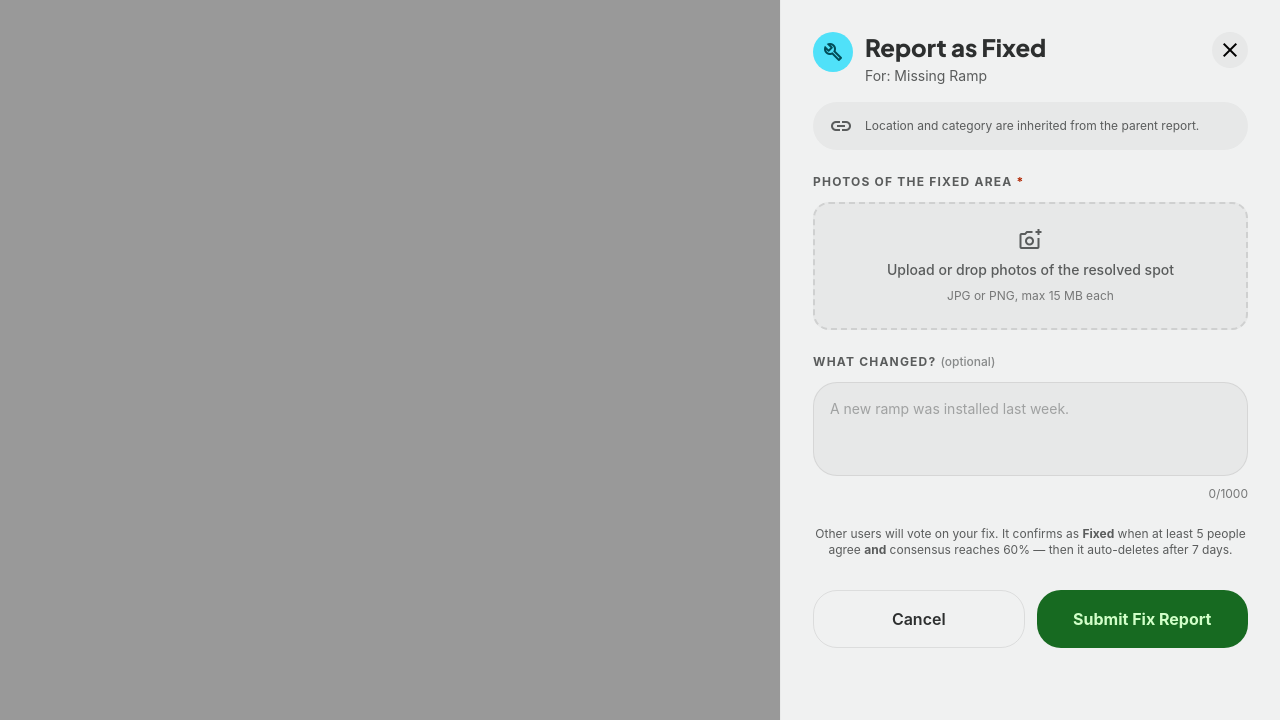
Test: CreateFixRequestPanel › rejects submit when no photo is attached
What coordinates should you click on to do the following:
click the button "Submit Fix Report"
I would click on:
 (1142, 619)
Its box is top-left (1036, 590), bottom-right (1248, 648).
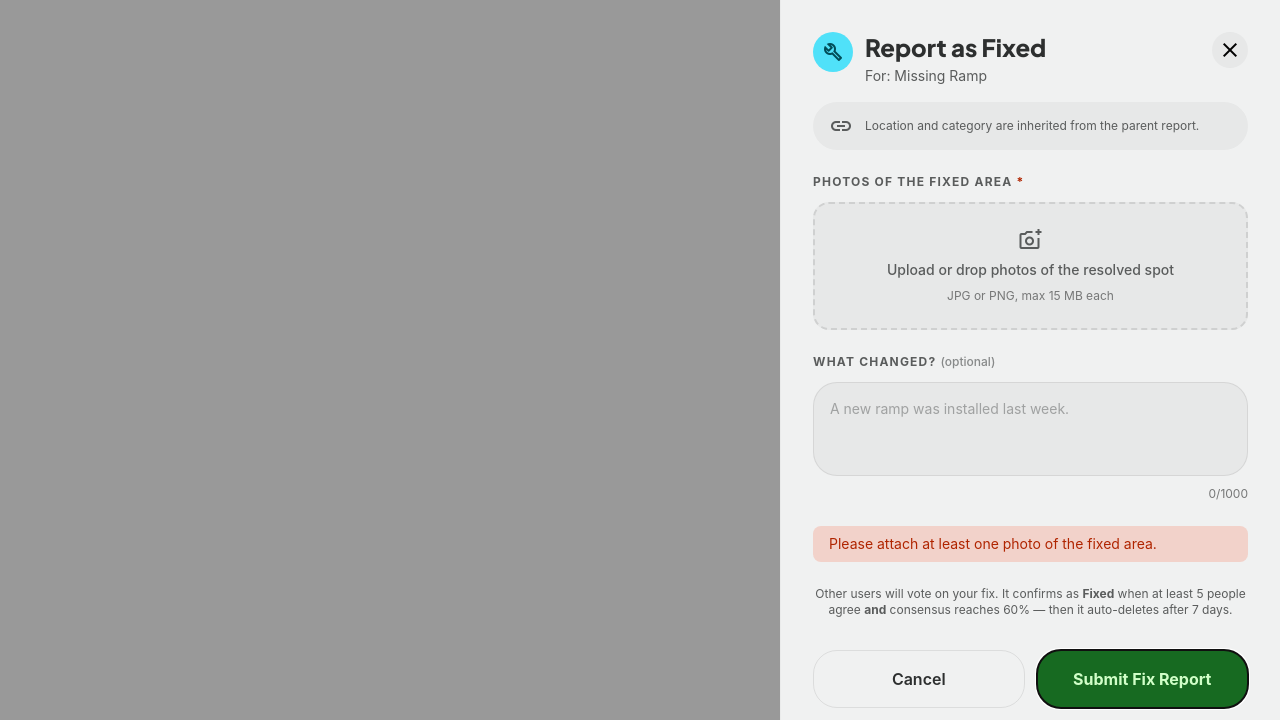
expect the message shows "photo": met, box top-left (829, 535), bottom-right (1157, 552)
